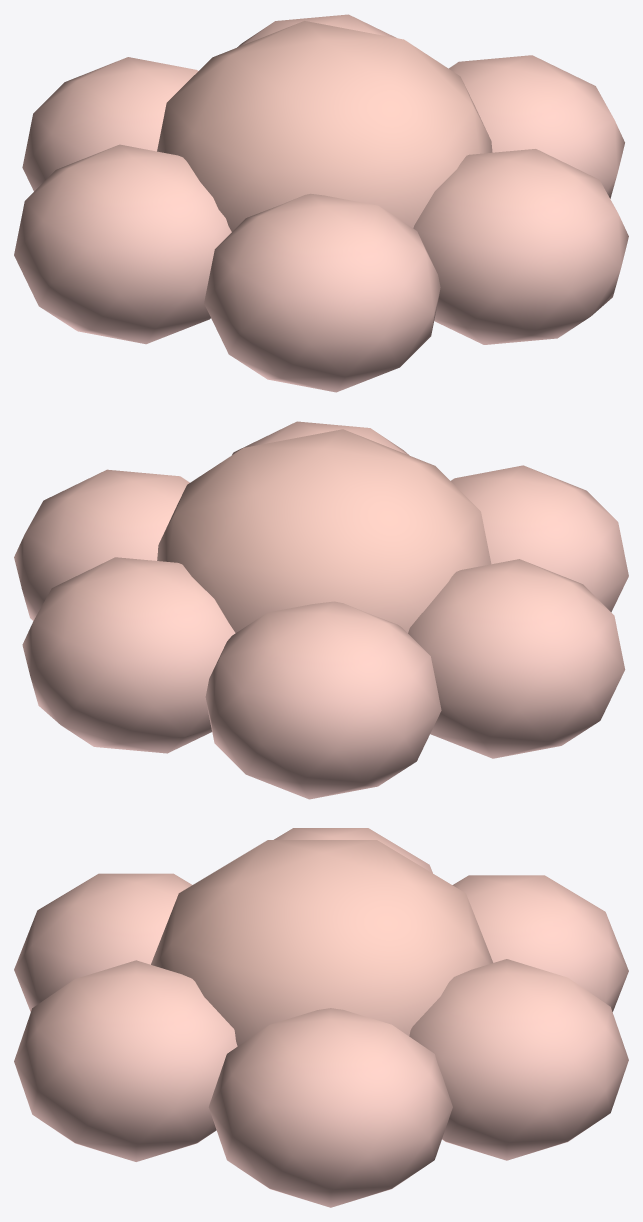
File: Cupcake_top_03.fbx
The picture shows the model from 3 angles, top to bottom: view 1: azimuth 30°, elevation 25°; view 2: azimuth 150°, elevation 25°; view 3: azimuth 270°, elevation 25°; orthographic projection.
Parts seen in each view (by area): view 1: Cupcake_top_03; view 2: Cupcake_top_03; view 3: Cupcake_top_03.
Boxes of the visible parts, x1=… form: Cupcake_top_03: x1=14, y1=14, x2=628, y2=392; Cupcake_top_03: x1=14, y1=421, x2=628, y2=799; Cupcake_top_03: x1=14, y1=828, x2=628, y2=1207.
Bounding box in the file's own units: 84 × 77.64 × 32.88.
